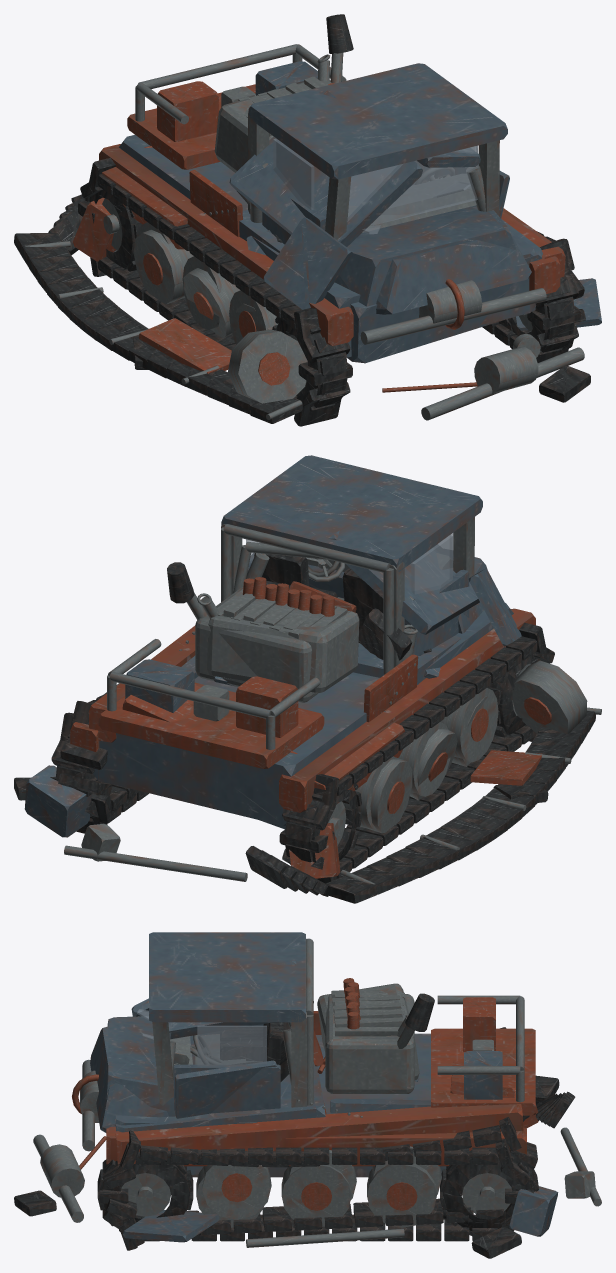
File: rebelCrawler.glb
3 renders of one model, top to bottom at view 1: azimuth 30°, elevation 25°; view 2: azimuth 150°, elevation 25°; view 3: azimuth 270°, elevation 25°, orthographic. The views are drawn at different scales.
Parts seen in each view (by area): view 1: rebelCrawler_body, wreckage_cabin, wreckage_thrown_track, wreckage_crawler_hull, wreckage_debris, rebelCrawler_glass, wreckage_tracks, wreckage_engine, wheel_front_left, wheel_rear_left, wheel_front_right; view 2: rebelCrawler_body, wreckage_thrown_track, wreckage_cabin, wreckage_debris, wreckage_engine, wreckage_tracks, wreckage_crawler_hull, wheel_rear_left, rebelCrawler_glass, wheel_front_left; view 3: rebelCrawler_body, wreckage_crawler_hull, wreckage_tracks, wreckage_debris, wreckage_cabin, wheel_rear_right, wheel_front_right, wreckage_engine, rebelCrawler_glass, wreckage_thrown_track.
Boxes of the visible parts, bbox=[...] form: rebelCrawler_body: bbox=[78, 14, 581, 426]; wreckage_cabin: bbox=[229, 90, 509, 309]; wreckage_thrown_track: bbox=[14, 194, 307, 423]; wreckage_crawler_hull: bbox=[102, 92, 565, 363]; wreckage_debris: bbox=[73, 197, 601, 420]; rebelCrawler_glass: bbox=[273, 139, 478, 224]; wreckage_tracks: bbox=[133, 229, 585, 348]; wreckage_engine: bbox=[214, 54, 334, 172]; wheel_front_left: bbox=[272, 317, 347, 410]; wheel_rear_left: bbox=[85, 189, 142, 271]; wheel_front_right: bbox=[504, 274, 574, 355]; rebelCrawler_body: bbox=[50, 455, 554, 883]; wreckage_thrown_track: bbox=[245, 660, 601, 903]; wreckage_cabin: bbox=[233, 530, 521, 661]; wreckage_debris: bbox=[14, 750, 548, 881]; wreckage_engine: bbox=[197, 577, 359, 693]; wreckage_tracks: bbox=[58, 693, 491, 833]; wreckage_crawler_hull: bbox=[88, 625, 461, 829]; wheel_rear_left: bbox=[285, 783, 361, 878]; rebelCrawler_glass: bbox=[246, 533, 453, 594]; wheel_front_left: bbox=[487, 655, 549, 737]; rebelCrawler_body: bbox=[72, 932, 535, 1250]; wreckage_crawler_hull: bbox=[90, 1026, 523, 1174]; wreckage_tracks: bbox=[105, 1117, 538, 1246]; wreckage_debris: bbox=[14, 1104, 601, 1258]; wreckage_cabin: bbox=[131, 961, 314, 1118]; wheel_rear_right: bbox=[440, 1150, 535, 1235]; wheel_front_right: bbox=[97, 1159, 193, 1231]; wreckage_engine: bbox=[313, 978, 419, 1080]; rebelCrawler_glass: bbox=[169, 1022, 266, 1066]; wreckage_thrown_track: bbox=[535, 1075, 575, 1128].
Size of what is drawn, in the model's own units: 4.53 by 2.57 by 6.06.
Materials: 2 (1 with a texture image).
